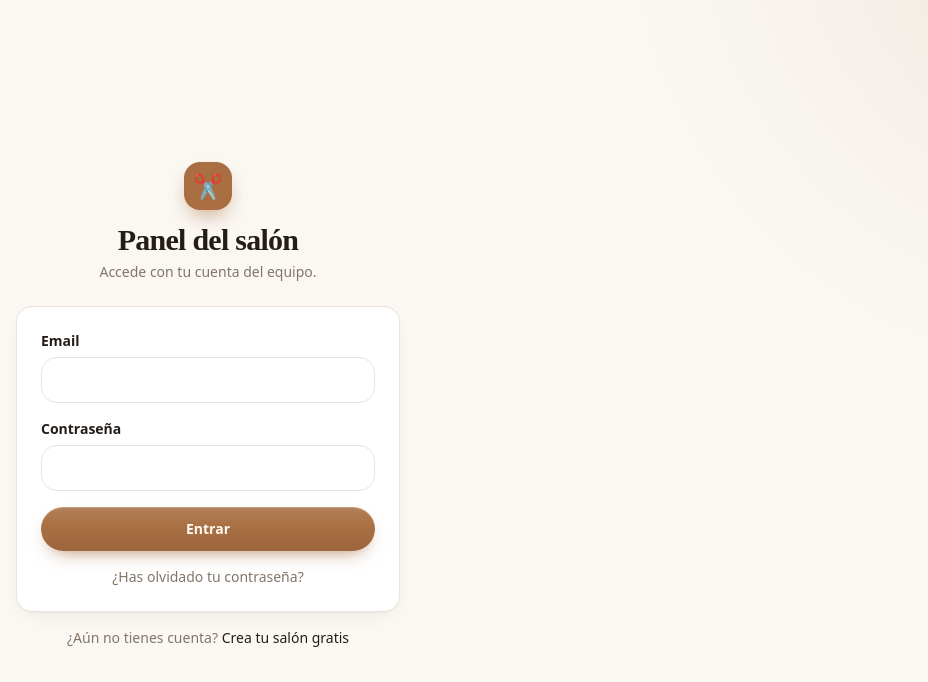
Test case: Panel · Login › muestra error y no redirige si las credenciales fallan
The image size is (928, 682).
Type "x@y.es" into the field labelled "Email" at x=208, y=380, box [41, 357, 375, 403]
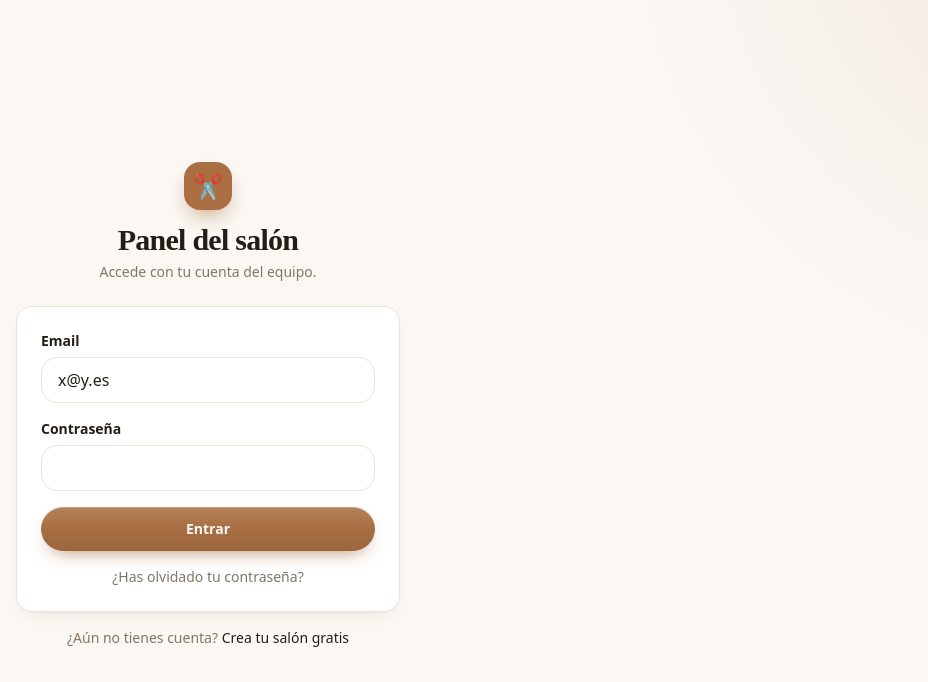
Type "nope" into the password field labelled "Contraseña" at x=208, y=468, box [41, 445, 375, 491]
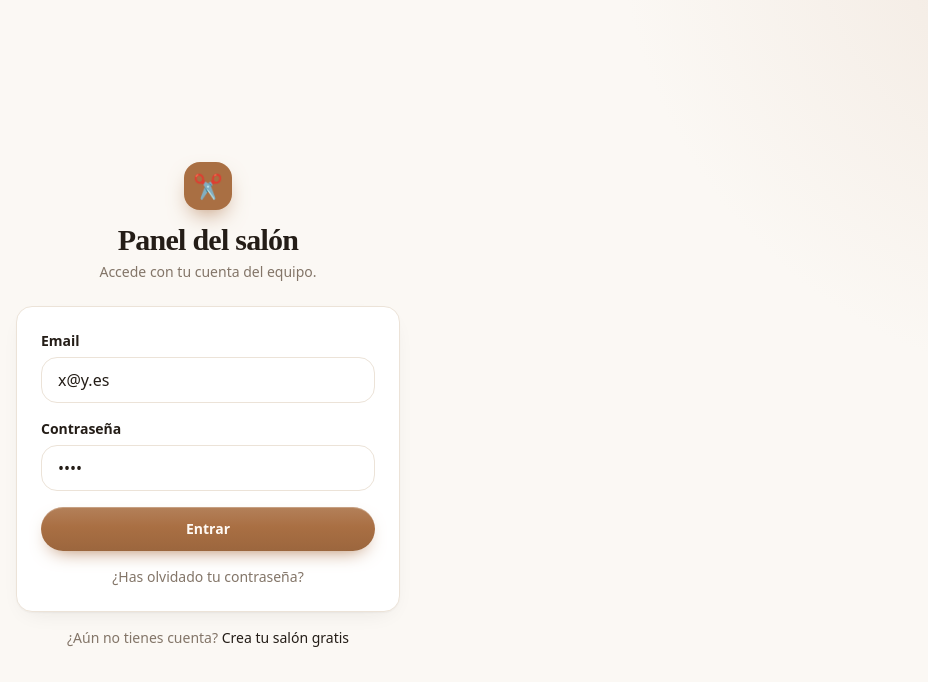
Click the button "Entrar" at x=208, y=529, box [41, 507, 375, 551]
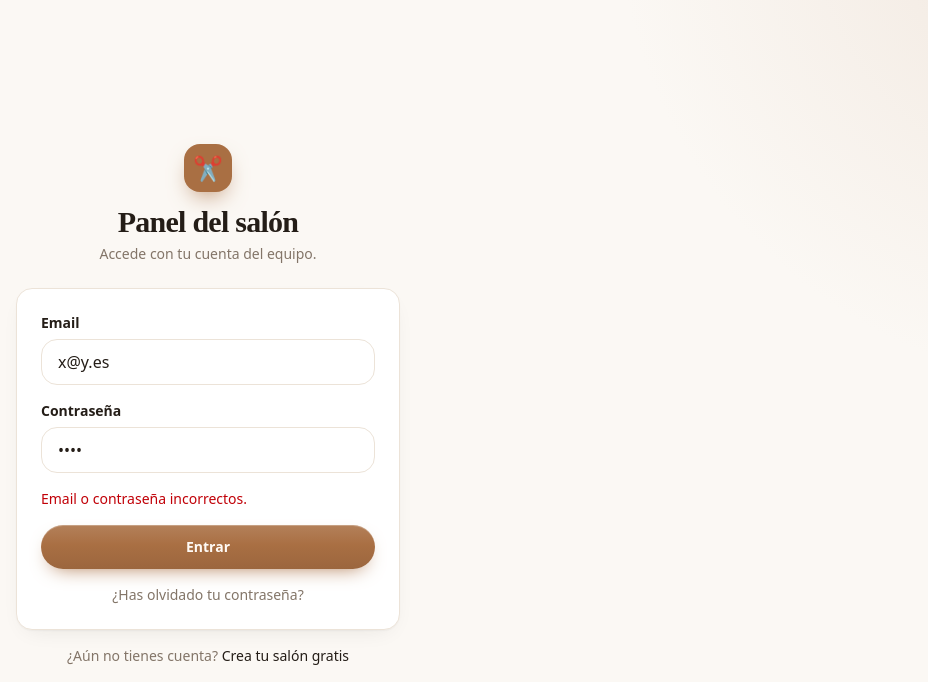
Expected: the text "Email o contraseña incorrectos." is shown, [41, 489, 247, 508]
